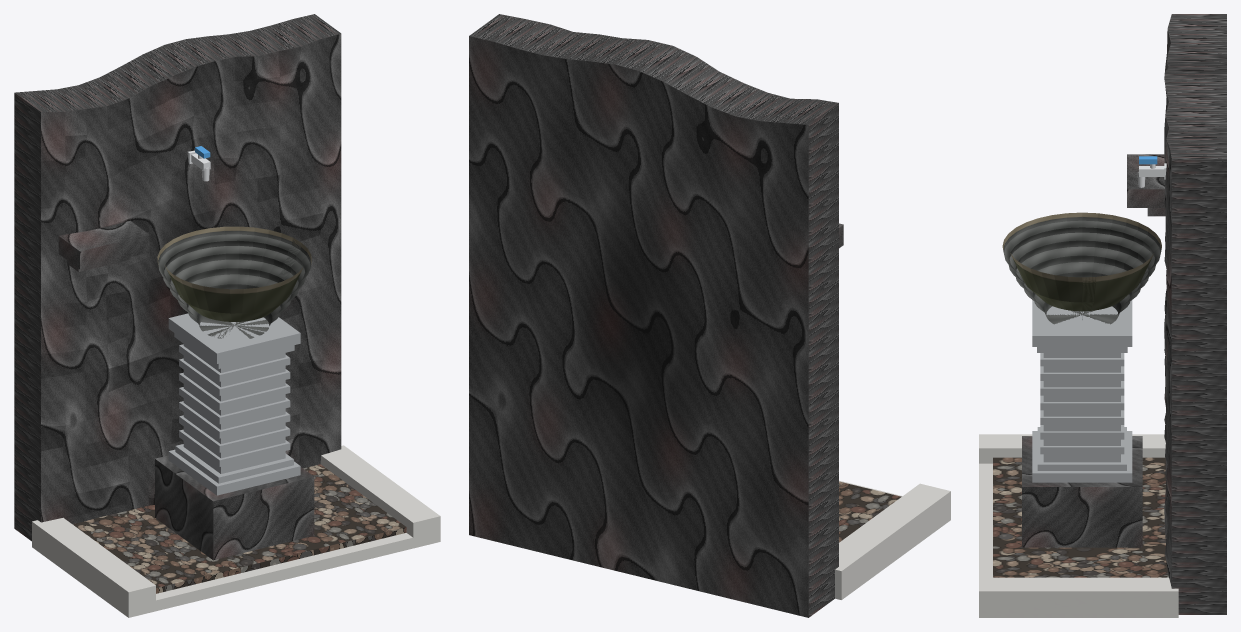
Rendered from wastafel_semen_corak_kayu.glb.
3 renders of one model, left to right at view 1: azimuth 30°, elevation 25°; view 2: azimuth 150°, elevation 25°; view 3: azimuth 270°, elevation 25°, orthographic. The views are drawn at different scales.
Visible parts, largest first — view 1: Dinding_Semen_Corak_Kayu, Pedestal_Beton_Berulir_Abu, Curb_Beton_Batas_Bawah, Hamparan_Batu_Koral_Sungai, Mangkuk_Wastafel_Berulir; view 2: Dinding_Semen_Corak_Kayu, Curb_Beton_Batas_Bawah, Hamparan_Batu_Koral_Sungai; view 3: Dinding_Semen_Corak_Kayu, Pedestal_Beton_Berulir_Abu, Mangkuk_Wastafel_Berulir, Curb_Beton_Batas_Bawah, Hamparan_Batu_Koral_Sungai, Keran_Dan_Saringan_Krom.
Part boxes in pixels (x1,y1,x2,y2): Dinding_Semen_Corak_Kayu: (14, 14, 341, 560); Pedestal_Beton_Berulir_Abu: (168, 313, 300, 495); Curb_Beton_Batas_Bawah: (32, 445, 440, 617); Hamparan_Batu_Koral_Sungai: (73, 464, 406, 593); Mangkuk_Wastafel_Berulir: (157, 226, 311, 338); Dinding_Semen_Corak_Kayu: (469, 14, 843, 617); Curb_Beton_Batas_Bawah: (835, 480, 950, 599); Hamparan_Batu_Koral_Sungai: (839, 481, 901, 542); Dinding_Semen_Corak_Kayu: (1022, 14, 1226, 614); Pedestal_Beton_Berulir_Abu: (1032, 300, 1132, 482); Mangkuk_Wastafel_Berulir: (1002, 212, 1161, 324); Curb_Beton_Batas_Bawah: (979, 434, 1178, 617); Hamparan_Batu_Koral_Sungai: (993, 457, 1168, 577); Keran_Dan_Saringan_Krom: (1137, 163, 1166, 187).
Size of the model in its own units: 1.08 by 1.48 by 0.72.
Materials: 7 (3 with a texture image).
